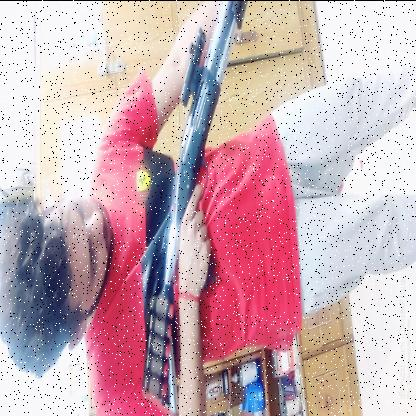rifle: (139, 1, 248, 416)
